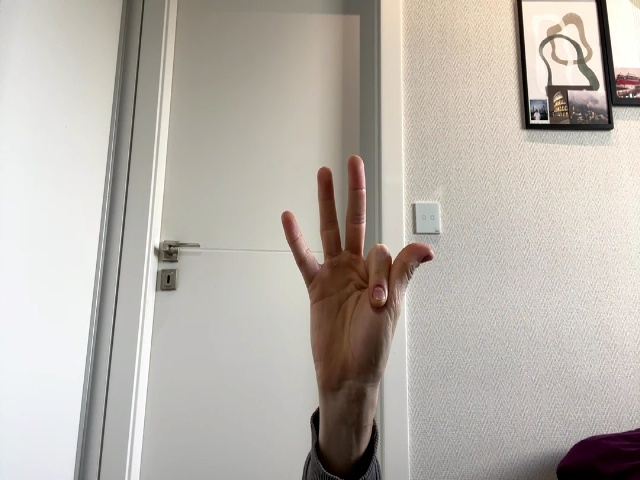F: (282, 155, 435, 356)
